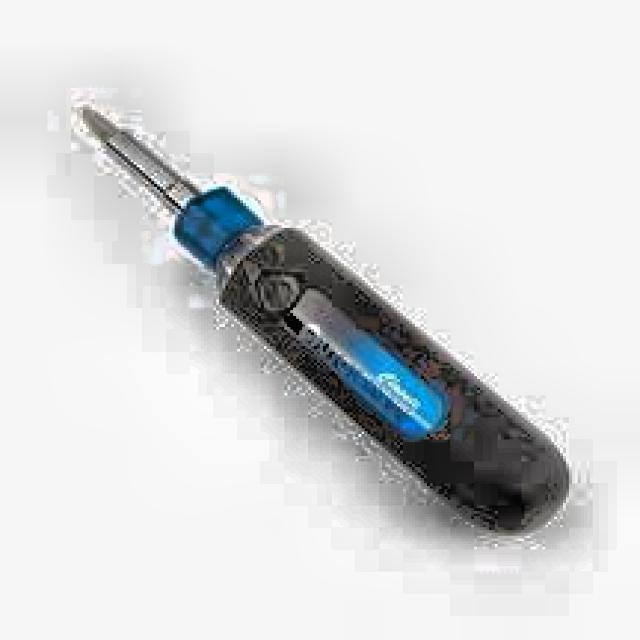screwdriver: (81, 108, 568, 532)
